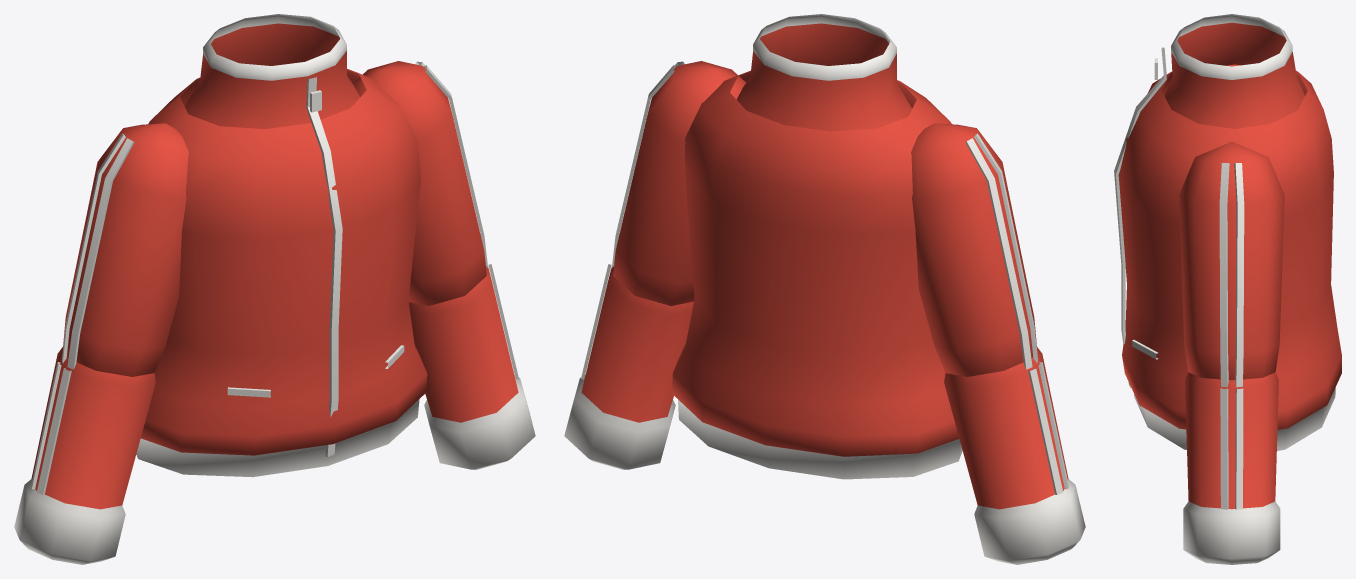
Rendered from outfit_jacket.glb.
3 renders of one model, left to right at view 1: azimuth 30°, elevation 25°; view 2: azimuth 150°, elevation 25°; view 3: azimuth 270°, elevation 25°, orthographic. The views are drawn at different scales.
Parts seen in each view (by area): view 1: outfit_jacket, sleeve_upper_R, sleeve_lower_R, sleeve_lower_L, sleeve_upper_L; view 2: outfit_jacket, sleeve_upper_R, sleeve_lower_R, sleeve_lower_L, sleeve_upper_L; view 3: outfit_jacket, sleeve_upper_L, sleeve_lower_L.
Part boxes in pixels (<box>): outfit_jacket: <box>136,14,427,477</box>; sleeve_upper_R: <box>62,123,188,376</box>; sleeve_lower_R: <box>14,347,155,564</box>; sleeve_lower_L: <box>408,264,535,469</box>; sleeve_upper_L: <box>353,61,487,305</box>; outfit_jacket: <box>672,14,962,479</box>; sleeve_upper_R: <box>911,123,1037,376</box>; sleeve_lower_R: <box>944,347,1085,564</box>; sleeve_lower_L: <box>564,264,693,469</box>; sleeve_upper_L: <box>612,61,745,305</box>; outfit_jacket: <box>1114,14,1341,450</box>; sleeve_upper_L: <box>1179,141,1284,387</box>; sleeve_lower_L: <box>1183,372,1280,564</box>.
Size of the model in its own units: 0.7511 by 0.6581 by 0.3149.
